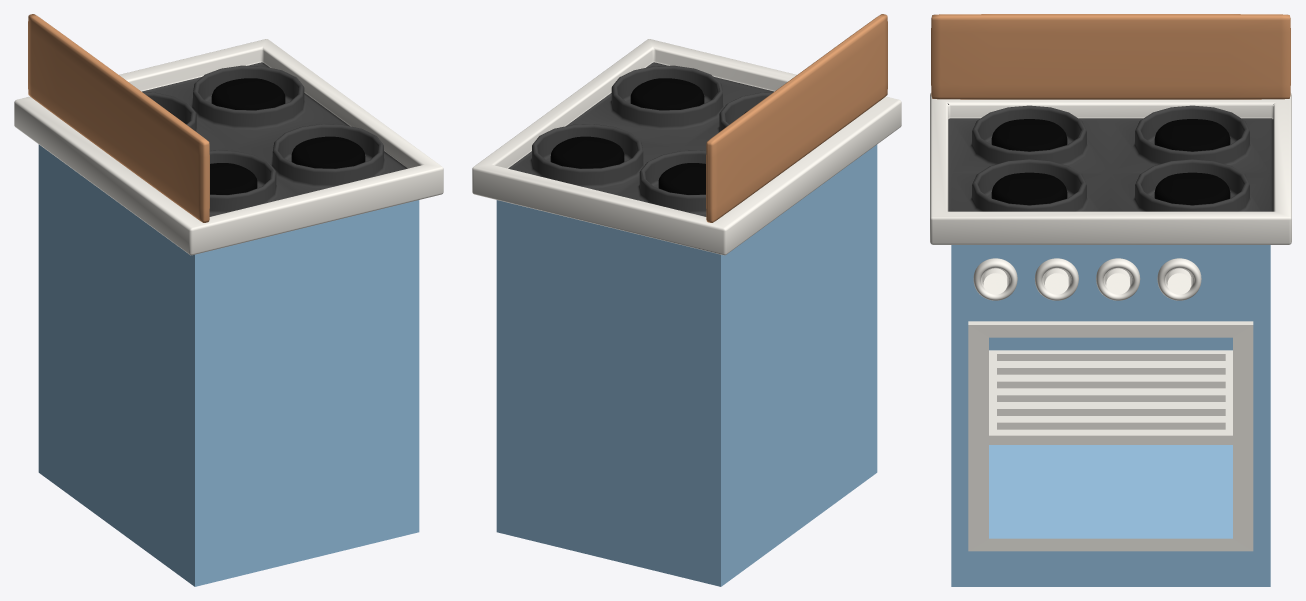
File: Stove.fbx
The picture shows the model from 3 angles, left to right: view 1: azimuth 30°, elevation 25°; view 2: azimuth 150°, elevation 25°; view 3: azimuth 270°, elevation 25°; orthographic projection. The views are drawn at different scales.
Visible parts, largest first — view 1: Stove; view 2: Stove; view 3: Stove.
Boxes of the visible parts, bbox=[...] form: Stove: bbox=[14, 14, 443, 586]; Stove: bbox=[472, 14, 901, 586]; Stove: bbox=[930, 14, 1291, 586].
Size of the model in its own units: 45.65 by 77.49 by 55.05.
